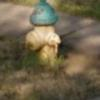cars: (27, 1, 57, 60), (35, 20, 63, 64)
